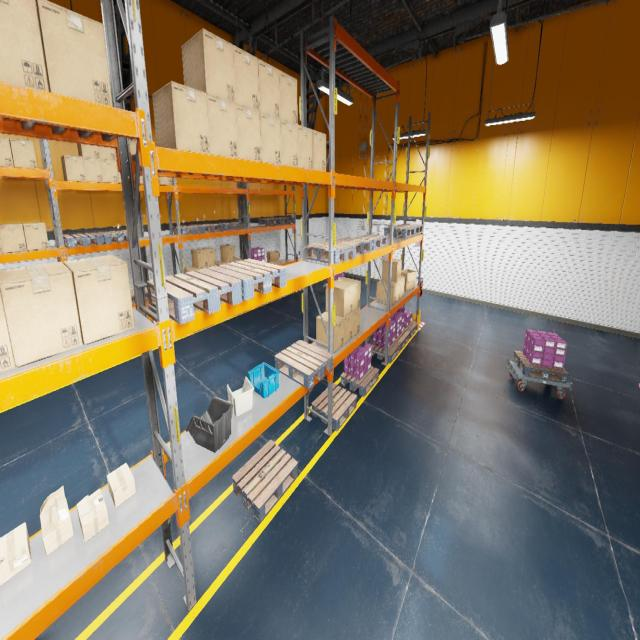box: (0, 261, 82, 367), (36, 0, 113, 107), (63, 255, 135, 345), (0, 0, 49, 92), (152, 81, 210, 154), (182, 29, 236, 103), (40, 486, 73, 556), (0, 522, 31, 586), (207, 94, 238, 158), (76, 488, 109, 542), (233, 44, 259, 112), (236, 104, 261, 162), (0, 287, 16, 373), (106, 463, 136, 507), (258, 58, 280, 118), (316, 311, 344, 352), (260, 112, 281, 165), (326, 280, 353, 317), (280, 70, 298, 124), (9, 138, 38, 168), (280, 119, 298, 167), (336, 277, 360, 311), (0, 223, 27, 253), (22, 222, 49, 251), (60, 155, 86, 181), (298, 124, 312, 170), (313, 130, 326, 171), (376, 280, 396, 305), (83, 157, 103, 182), (382, 258, 402, 281), (382, 279, 401, 302), (100, 159, 119, 182), (0, 137, 14, 166), (191, 248, 208, 268), (77, 144, 100, 158), (401, 269, 416, 290), (115, 139, 130, 160), (200, 247, 216, 266), (220, 244, 235, 262), (344, 312, 352, 344), (352, 307, 360, 338), (99, 146, 116, 160), (267, 251, 279, 264), (159, 176, 172, 185), (184, 266, 198, 274), (400, 276, 405, 298), (116, 161, 121, 183), (129, 139, 136, 154), (134, 175, 143, 184), (216, 261, 227, 266), (0, 236, 3, 253), (235, 258, 242, 261), (158, 177, 160, 184)
pallets: (232, 440, 298, 522), (147, 269, 242, 324), (208, 259, 286, 300), (275, 339, 333, 388), (312, 383, 357, 431), (514, 350, 568, 383), (341, 366, 379, 396), (308, 241, 356, 264), (327, 238, 372, 256), (63, 232, 104, 248), (372, 341, 401, 363), (354, 234, 387, 250), (96, 230, 128, 243), (384, 225, 415, 238), (392, 330, 410, 350), (395, 224, 423, 235), (131, 286, 148, 304), (173, 225, 203, 235), (194, 223, 223, 233), (402, 322, 418, 338), (218, 222, 244, 231), (192, 324, 214, 333), (258, 218, 281, 225), (273, 217, 293, 223), (234, 309, 251, 316), (256, 302, 270, 307), (270, 296, 282, 301), (284, 292, 294, 296), (327, 279, 335, 283)
